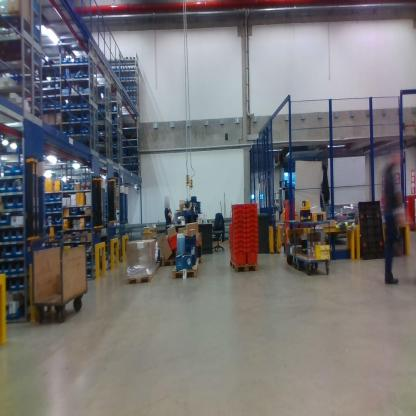forklift: (275, 176, 298, 242)
pallet: (126, 267, 158, 286), (228, 259, 261, 275), (173, 261, 200, 279), (188, 255, 203, 267), (162, 257, 177, 267), (152, 261, 160, 271)
small_load_carrier: (228, 247, 247, 267), (247, 247, 259, 268), (233, 201, 246, 209), (228, 223, 245, 229), (227, 238, 246, 243), (227, 233, 245, 238), (246, 201, 259, 207), (246, 212, 259, 218), (246, 227, 259, 233), (228, 243, 247, 247), (231, 214, 245, 219), (228, 229, 245, 233), (246, 218, 259, 223), (233, 209, 245, 214), (247, 237, 259, 242), (247, 242, 259, 247), (231, 219, 245, 223), (245, 207, 259, 211), (246, 223, 259, 227), (246, 233, 259, 237)
